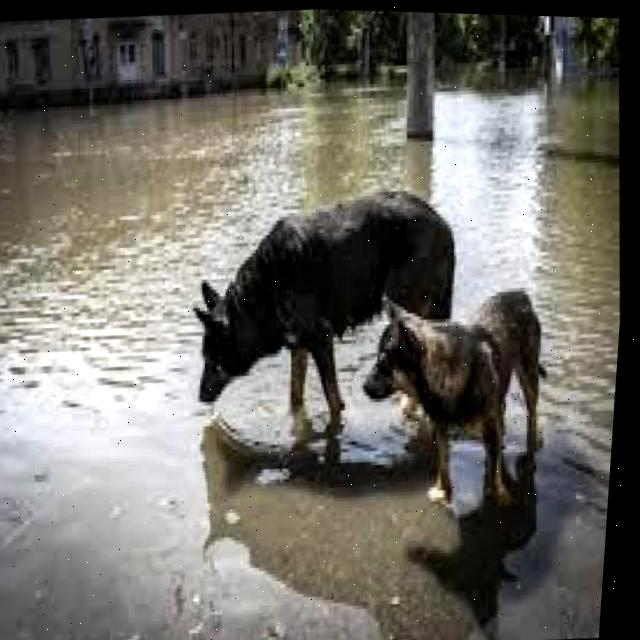dog: (165, 166, 492, 433), (348, 276, 579, 513)
